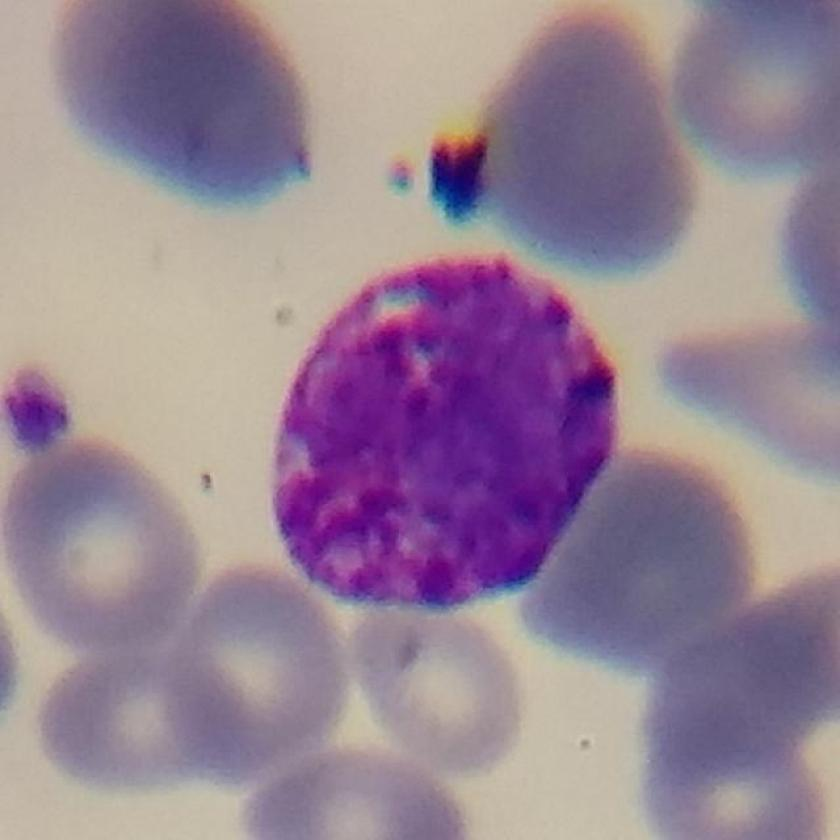basophil: (263, 245, 625, 615)
